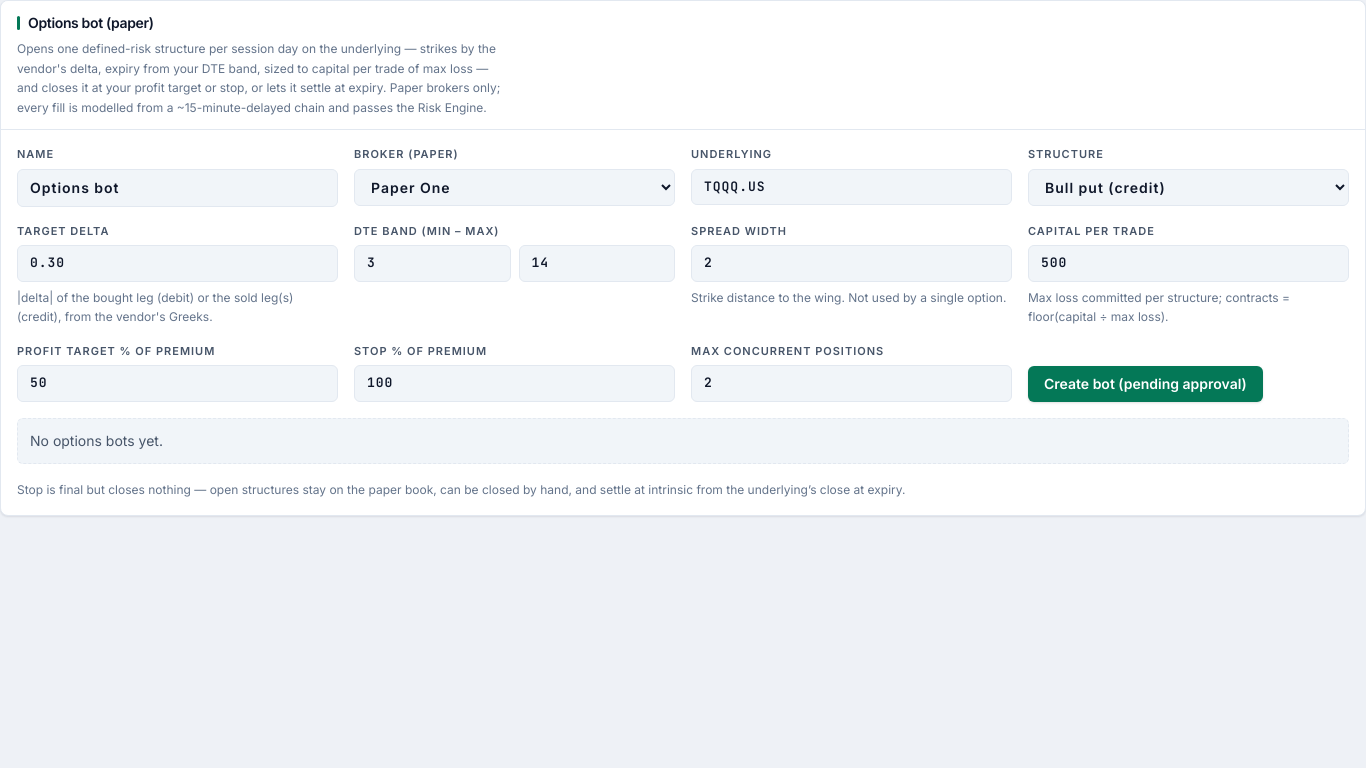
OptionsBotPanel › shows a backend refusal verbatim
What coordinates should you click on to do the following:
click the button "Create bot (pending approval)"
I would click on:
 (1145, 384)
Its box is top-left (1028, 366), bottom-right (1263, 402).
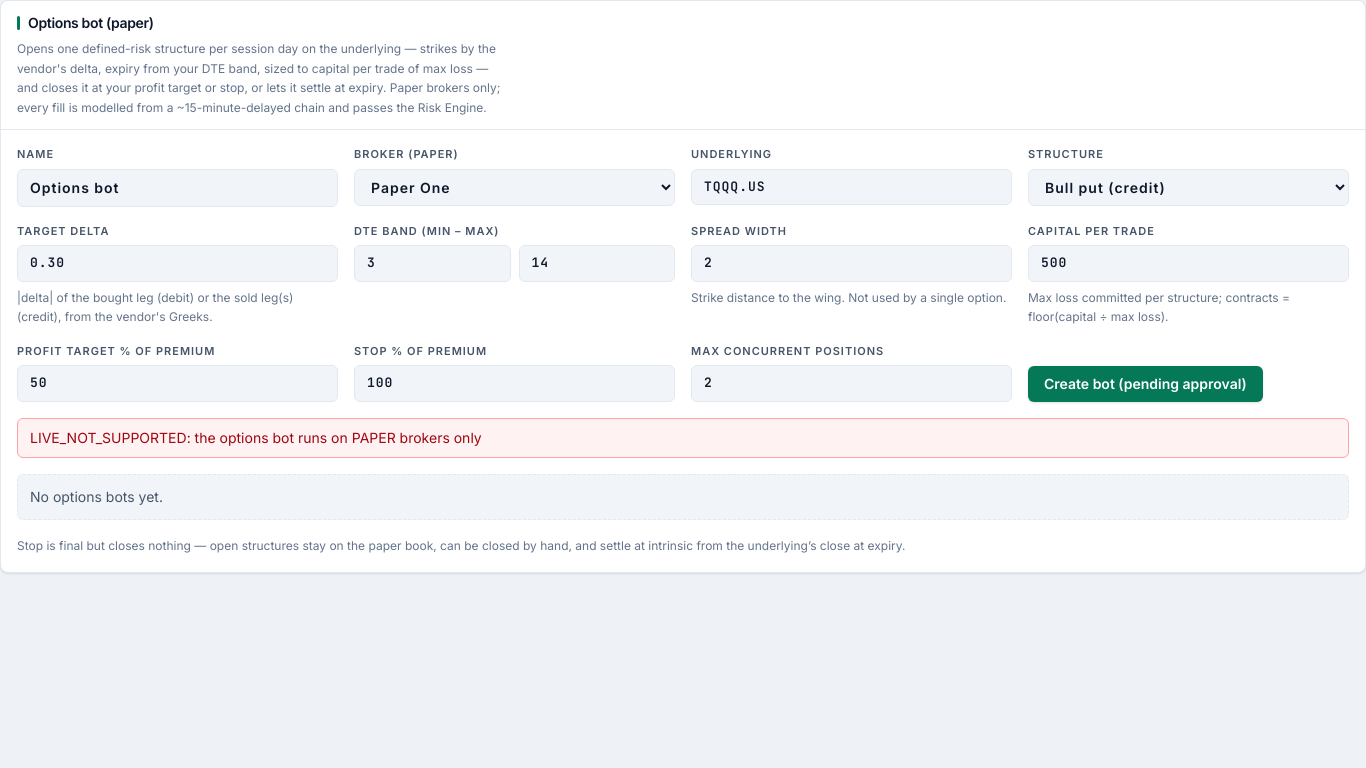
Now the message shows "LIVE_NOT_SUPPORTED", box top-left (30, 429), bottom-right (482, 446)
